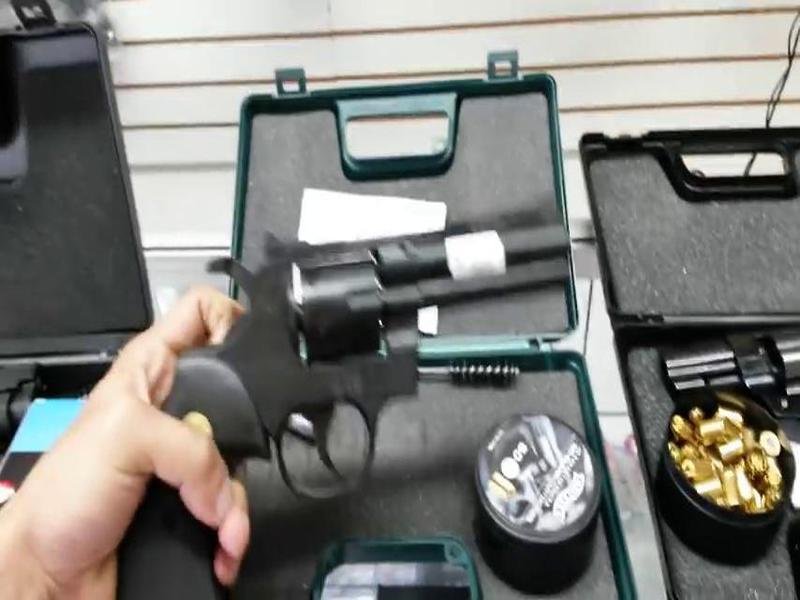Revolver: (135, 183, 605, 590)
